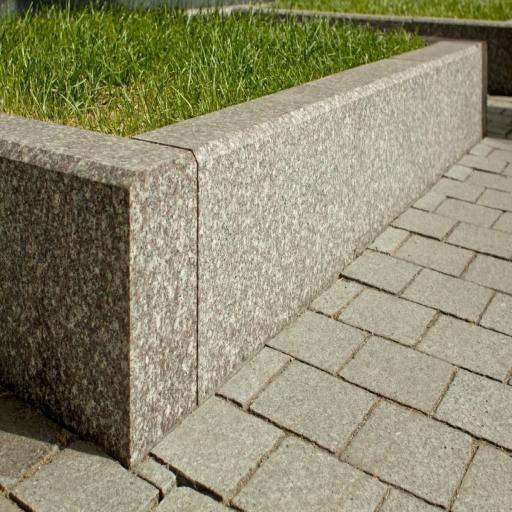construction_fence: (0, 41, 487, 465)
shelf: (0, 138, 511, 511)
